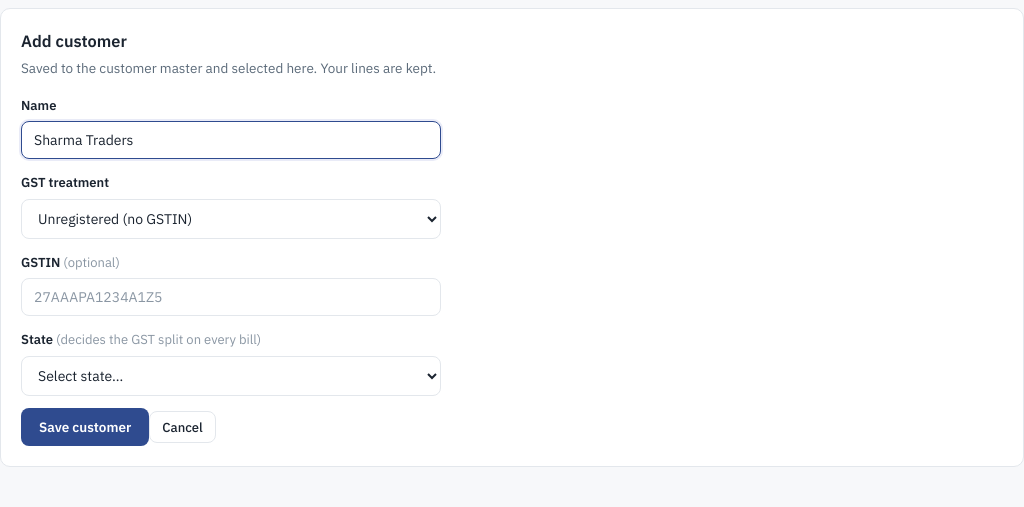
Test: <QuickAddCustomer> › blocks submit until a state code is chosen
Click the button "Save customer" at (85, 427), box [21,408,149,446]
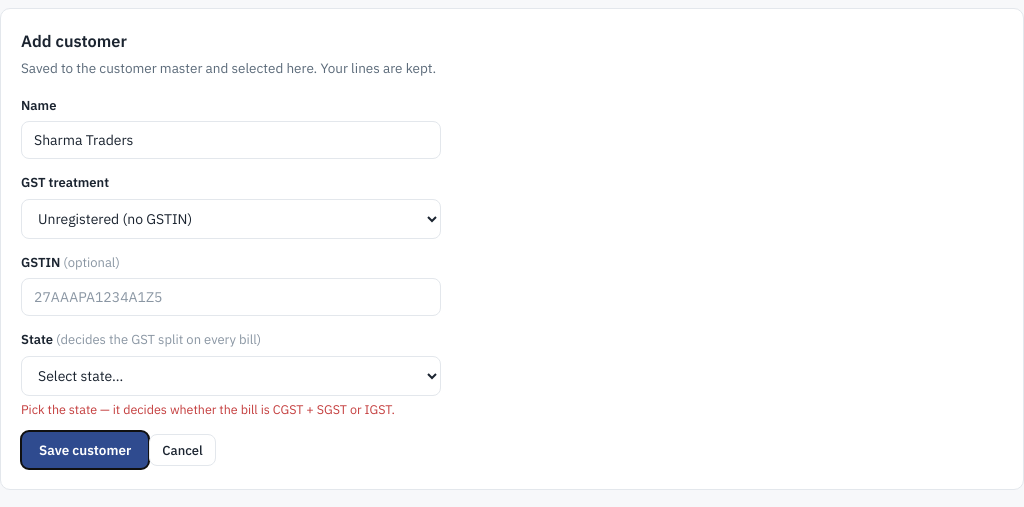
Expected: the text "CGST + SGST or IGST" is shown, [21,401,395,417]
